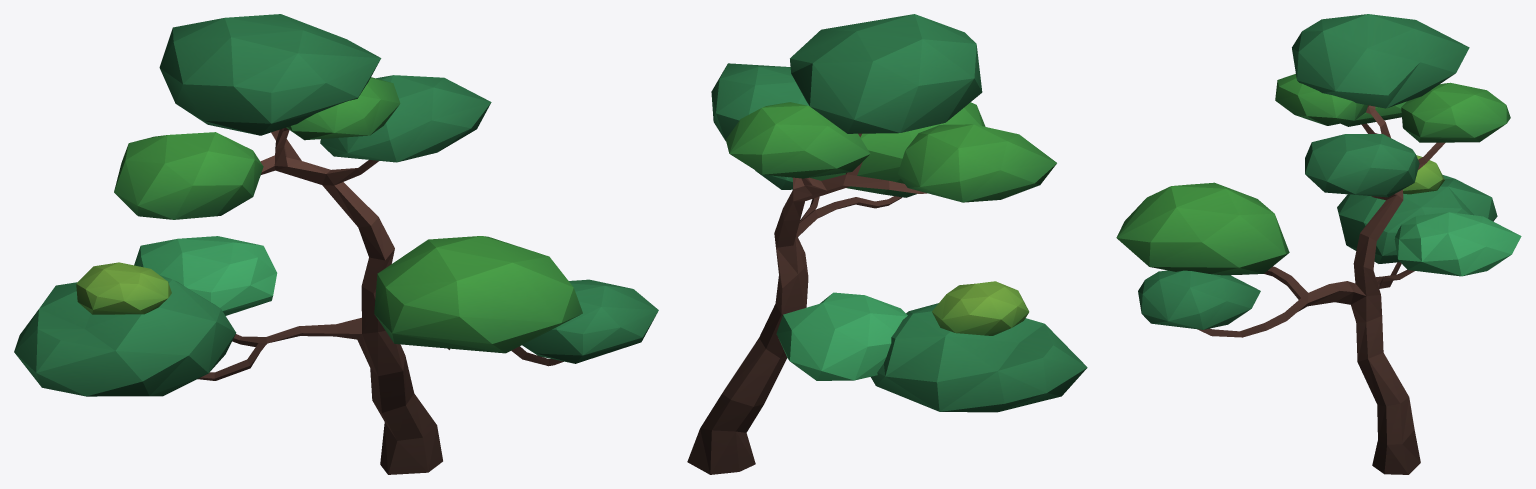
File: ZLP_Plant_C_4.FBX
3 views of the same model, side by side, from view 1: azimuth 30°, elevation 25°; view 2: azimuth 150°, elevation 25°; view 3: azimuth 270°, elevation 25° (orthographic). The views are drawn at different scales.
Visible parts, largest first — view 1: ZLP_Plant_C_4; view 2: ZLP_Plant_C_4; view 3: ZLP_Plant_C_4.
Part boxes in pixels (left/top/right/bottom): ZLP_Plant_C_4: left=14, top=14, right=658, bottom=474; ZLP_Plant_C_4: left=687, top=14, right=1087, bottom=474; ZLP_Plant_C_4: left=1116, top=14, right=1521, bottom=474.
Size of the model in its own units: 513 by 492 by 481.
